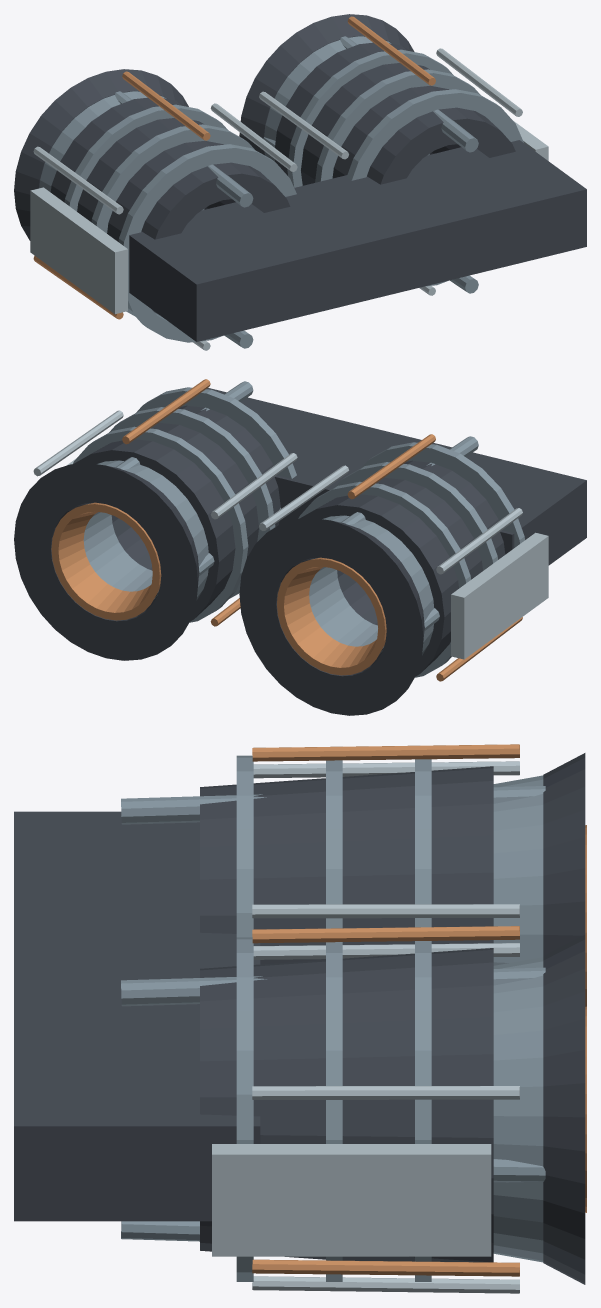
File: engine_vortex_v2.glb
The picture shows the model from 3 angles, top to bottom: view 1: azimuth 30°, elevation 25°; view 2: azimuth 150°, elevation 25°; view 3: azimuth 270°, elevation 25°; orthographic projection. The views are drawn at different scales.
Parts seen in each view (by area): view 1: ENGINE_MODULAR_CASSETTE_CRADLE, ENGINE_1_STRUCTURAL_CHAMBER, ENGINE_-1_STRUCTURAL_CHAMBER, ENGINE_-1_SPLIT_SIDE_ARMOR, ENGINE_-1_RECESSED_BELL, ENGINE_-1_SERVICE_COLLAR_0, ENGINE_1_RECESSED_BELL, ENGINE_1_SERVICE_COLLAR_0, ENGINE_1_SERVICE_COLLAR_1, ENGINE_-1_SERVICE_COLLAR_1, ENGINE_1_SERVICE_COLLAR_2, ENGINE_-1_SERVICE_COLLAR_2 (+12 smaller); view 2: ENGINE_1_RECESSED_BELL, ENGINE_-1_RECESSED_BELL, ENGINE_MODULAR_CASSETTE_CRADLE, ENGINE_1_STRUCTURAL_CHAMBER, ENGINE_-1_STRUCTURAL_CHAMBER, ENGINE_-1_SPLIT_SIDE_ARMOR, ENGINE_-1_HEATED_INNER_LIP, ENGINE_1_HEATED_INNER_LIP, ENGINE_1_THROAT, ENGINE_-1_THROAT, ENGINE_1_SERVICE_COLLAR_2, ENGINE_1_SERVICE_COLLAR_1 (+13 smaller); view 3: ENGINE_MODULAR_CASSETTE_CRADLE, ENGINE_1_STRUCTURAL_CHAMBER, ENGINE_-1_STRUCTURAL_CHAMBER, ENGINE_1_SPLIT_SIDE_ARMOR, ENGINE_1_RECESSED_BELL, ENGINE_1_THROAT, ENGINE_-1_RECESSED_BELL, ENGINE_-1_THROAT, ENGINE_1_SERVICE_COLLAR_0, ENGINE_1_EXTERNAL_HEAT_CHANNEL_5, ENGINE_-1_EXTERNAL_HEAT_CHANNEL_0, ENGINE_-1_EXTERNAL_HEAT_CHANNEL_1 (+14 smaller).
Part boxes in pixels (x1,y1,x2,y2): ENGINE_MODULAR_CASSETTE_CRADLE: (129,140,586,341); ENGINE_1_STRUCTURAL_CHAMBER: (274,42,515,185); ENGINE_-1_STRUCTURAL_CHAMBER: (50,97,290,314); ENGINE_-1_SPLIT_SIDE_ARMOR: (30,187,127,314); ENGINE_-1_RECESSED_BELL: (14,69,188,240); ENGINE_-1_SERVICE_COLLAR_0: (118,144,296,342); ENGINE_1_RECESSED_BELL: (239,14,414,155); ENGINE_1_SERVICE_COLLAR_0: (347,89,523,286); ENGINE_1_SERVICE_COLLAR_1: (315,69,491,182); ENGINE_-1_SERVICE_COLLAR_1: (91,124,266,318); ENGINE_1_SERVICE_COLLAR_2: (287,49,452,187); ENGINE_-1_SERVICE_COLLAR_2: (64,104,228,211); ENGINE_1_RECESSED_BELL: (14,463,199,660); ENGINE_-1_RECESSED_BELL: (239,518,424,715); ENGINE_MODULAR_CASSETTE_CRADLE: (206,388,586,565); ENGINE_1_STRUCTURAL_CHAMBER: (74,405,280,621); ENGINE_-1_STRUCTURAL_CHAMBER: (299,460,505,676); ENGINE_-1_SPLIT_SIDE_ARMOR: (451,532,548,659); ENGINE_-1_HEATED_INNER_LIP: (277,557,386,675); ENGINE_1_HEATED_INNER_LIP: (51,502,161,620); ENGINE_1_THROAT: (83,460,208,600); ENGINE_-1_THROAT: (309,515,433,655); ENGINE_1_SERVICE_COLLAR_2: (73,426,248,622); ENGINE_1_SERVICE_COLLAR_1: (109,407,275,598); ENGINE_MODULAR_CASSETTE_CRADLE: (14,811,260,1221); ENGINE_1_STRUCTURAL_CHAMBER: (200,948,493,1262); ENGINE_-1_STRUCTURAL_CHAMBER: (200,766,493,964); ENGINE_1_SPLIT_SIDE_ARMOR: (212,1144,491,1256); ENGINE_1_RECESSED_BELL: (543,934,585,1284); ENGINE_1_THROAT: (493,957,543,1262); ENGINE_-1_RECESSED_BELL: (543,753,585,955); ENGINE_-1_THROAT: (493,775,543,965); ENGINE_1_SERVICE_COLLAR_0: (236,937,253,1281); ENGINE_1_EXTERNAL_HEAT_CHANNEL_5: (252,1259,519,1276); ENGINE_-1_EXTERNAL_HEAT_CHANNEL_0: (252,904,519,918); ENGINE_-1_EXTERNAL_HEAT_CHANNEL_1: (252,744,519,761).
Bounding box in the file's own units: 1.58 × 0.7726 × 1.09.
